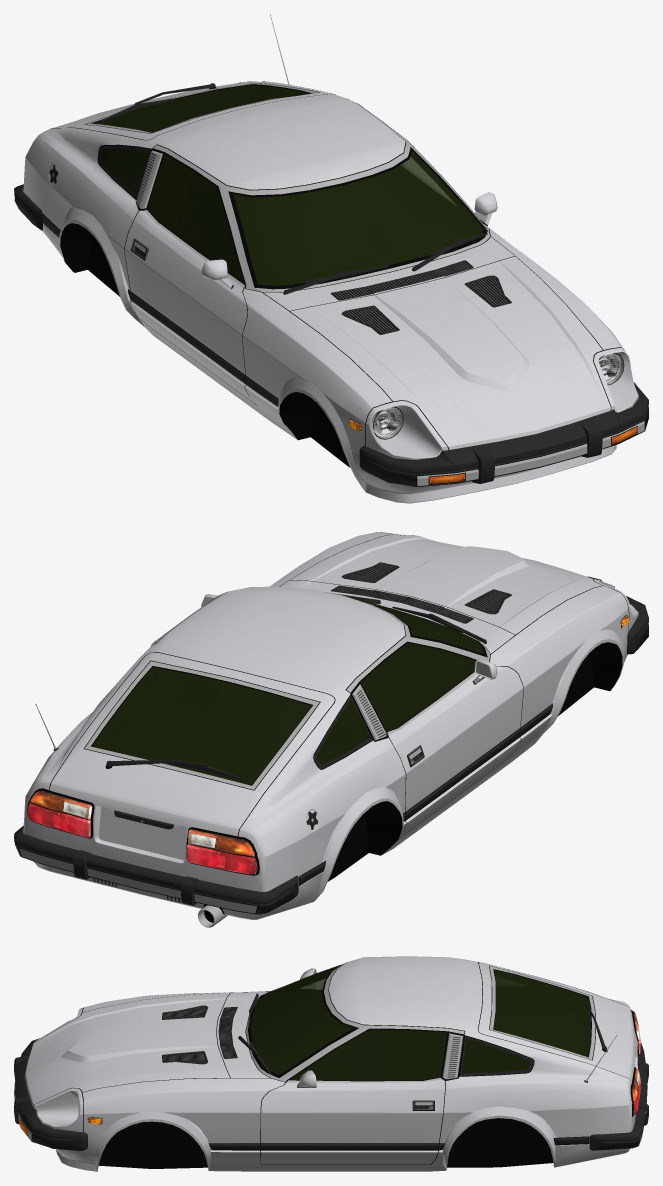
The picture shows the model from 3 angles, top to bottom: view 1: azimuth 30°, elevation 25°; view 2: azimuth 150°, elevation 25°; view 3: azimuth 270°, elevation 25°; orthographic projection. The views are drawn at different scales.
Visible parts, largest first — view 1: body; view 2: body; view 3: body.
Part boxes in pixels (bbox=[...]): body: bbox=[14, 14, 648, 503]; body: bbox=[14, 532, 648, 927]; body: bbox=[14, 956, 648, 1171].
Bounding box in the file's own units: 1.22 × 0.7717 × 2.93.
Materials: 12 (6 with a texture image).
